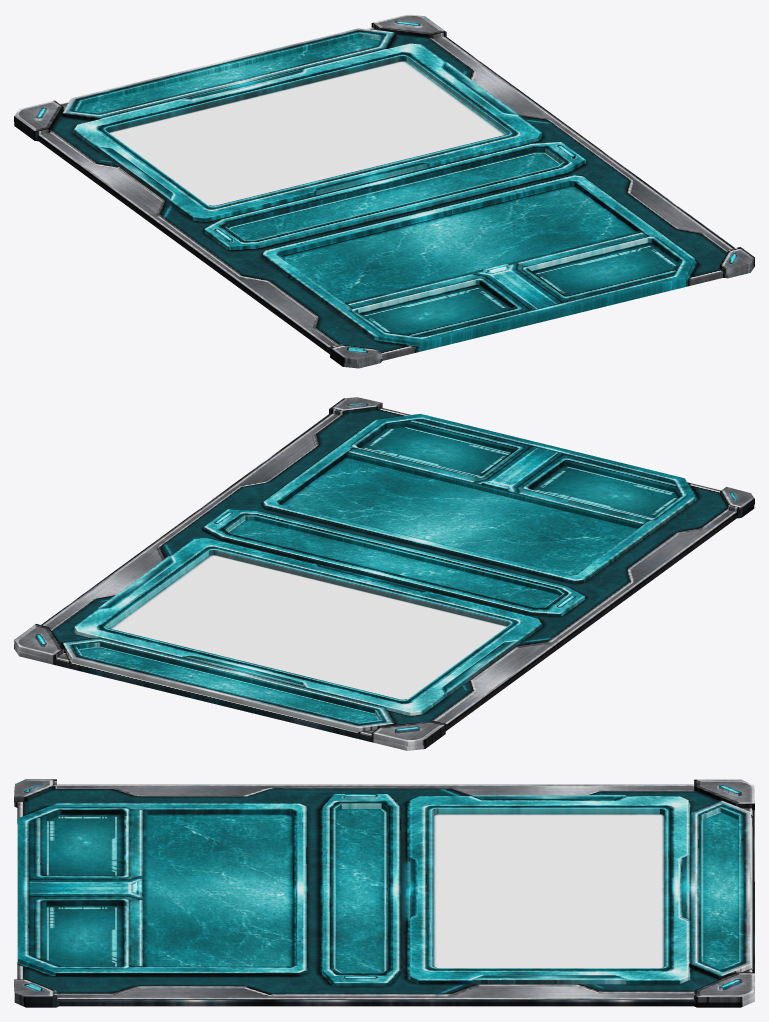
Rendered from teal.glb.
3 renders of one model, top to bottom at view 1: azimuth 30°, elevation 25°; view 2: azimuth 150°, elevation 25°; view 3: azimuth 270°, elevation 25°, orthographic. The views are drawn at different scales.
Parts seen in each view (by area): view 1: Card; view 2: Card; view 3: Card.
Boxes of the visible parts, x1=… form: Card: x1=14, y1=14, x2=754, y2=368; Card: x1=14, y1=397, x2=754, y2=750; Card: x1=14, y1=779, x2=754, y2=1007.
Bounding box in the file's own units: 0.0636 × 0.00166 × 0.0912.
8 materials, 8 textured.
